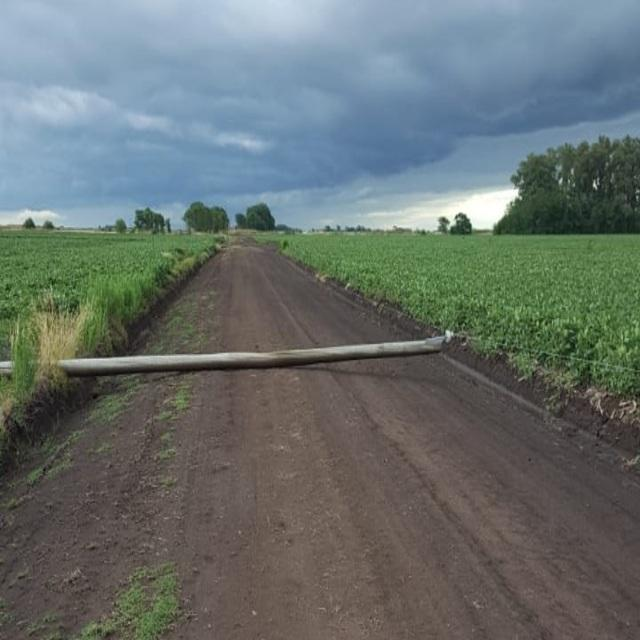Inclined Pole: (0, 326, 473, 378)
